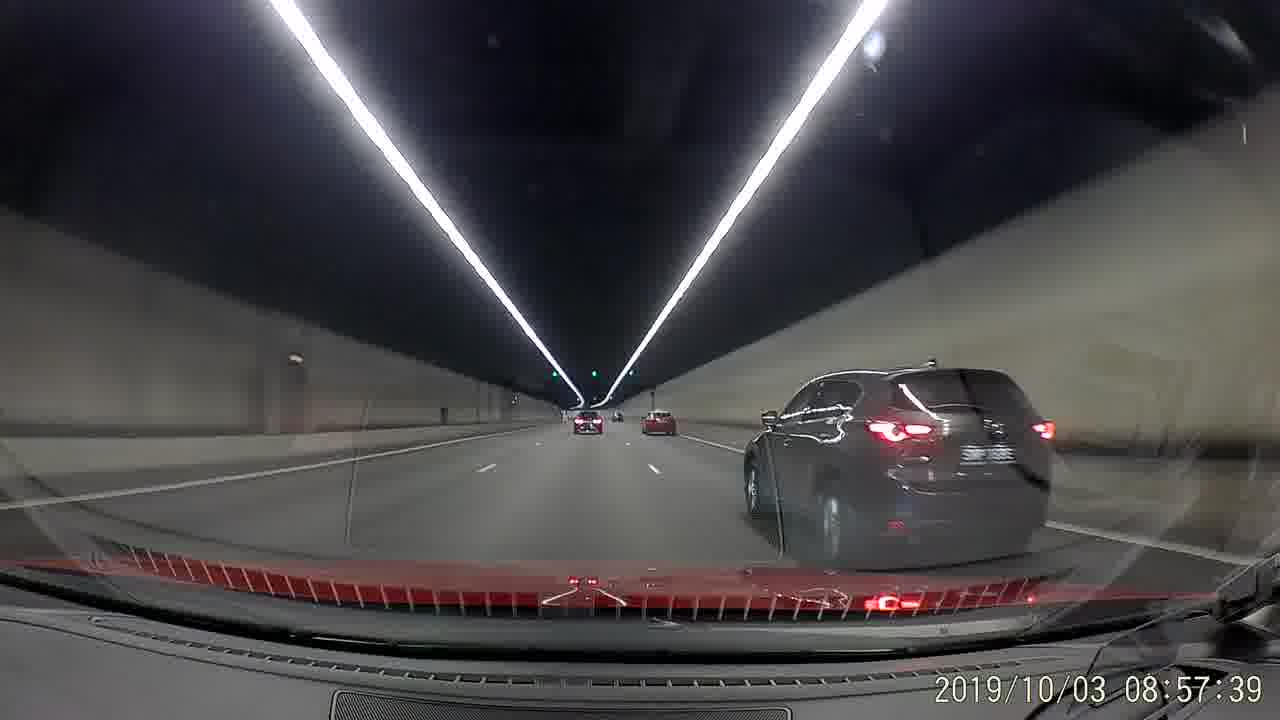car: (744, 361, 1055, 565), (640, 409, 676, 435), (572, 409, 603, 434)
